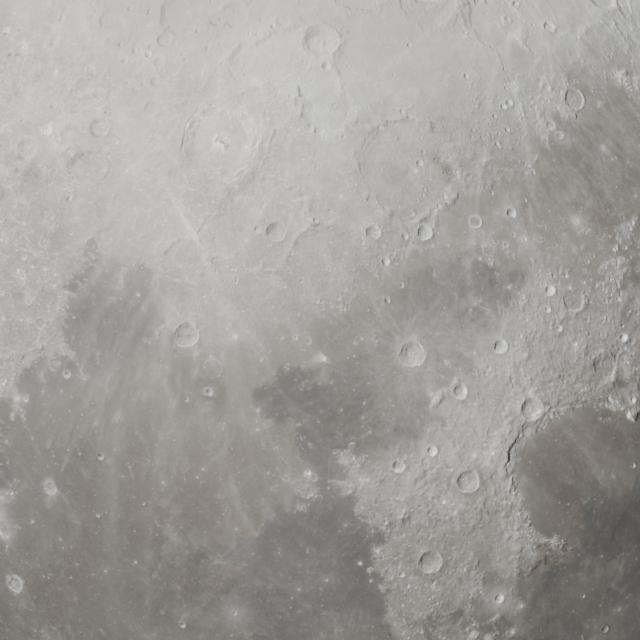crater: (183, 100, 269, 183), (252, 209, 323, 254), (161, 2, 231, 43), (59, 122, 93, 152), (289, 470, 321, 501), (162, 239, 195, 266), (592, 352, 622, 381), (398, 341, 426, 367), (173, 323, 200, 349), (417, 549, 443, 575), (521, 398, 545, 423), (562, 290, 586, 313), (457, 470, 480, 494), (564, 88, 586, 112), (15, 135, 36, 157), (609, 370, 630, 392), (202, 354, 222, 375), (90, 118, 110, 138), (156, 28, 175, 48), (264, 222, 284, 240), (82, 236, 100, 256), (6, 574, 24, 594), (293, 92, 307, 114), (416, 224, 433, 242), (452, 382, 469, 400), (13, 40, 31, 56), (142, 101, 159, 117), (42, 479, 58, 496), (365, 224, 381, 240), (23, 290, 38, 306), (493, 338, 508, 354), (538, 78, 552, 94), (47, 358, 62, 372), (569, 214, 583, 229), (39, 123, 53, 137), (468, 215, 482, 229), (598, 260, 612, 274), (399, 512, 412, 526), (392, 460, 406, 473), (543, 20, 556, 33), (553, 130, 566, 142), (36, 235, 48, 248), (202, 386, 214, 398), (34, 317, 46, 329), (544, 284, 556, 296), (18, 394, 30, 406), (426, 445, 438, 457), (176, 617, 188, 629), (545, 119, 556, 131), (320, 61, 332, 72), (302, 468, 314, 479), (500, 100, 513, 110), (302, 336, 313, 346), (62, 368, 72, 379), (506, 208, 516, 219), (494, 594, 504, 605), (9, 411, 18, 423), (503, 15, 513, 25), (381, 257, 391, 267), (620, 333, 630, 343), (608, 0, 618, 10), (415, 158, 424, 168), (290, 333, 300, 342), (398, 106, 407, 116), (2, 26, 12, 35), (311, 216, 320, 225), (494, 140, 502, 150), (572, 340, 580, 350), (232, 275, 240, 285), (600, 143, 608, 153), (608, 396, 616, 406), (383, 296, 391, 305), (144, 49, 152, 58), (407, 210, 416, 218), (401, 232, 410, 240), (611, 244, 619, 253), (252, 224, 260, 233), (596, 100, 605, 108), (96, 453, 105, 461), (635, 409, 640, 422), (544, 306, 552, 314), (398, 282, 406, 290), (64, 194, 72, 202), (366, 566, 374, 574), (502, 240, 509, 249), (462, 72, 469, 80), (557, 324, 564, 332), (21, 253, 29, 260), (483, 635, 493, 640), (491, 112, 498, 119), (183, 397, 190, 404), (512, 1, 520, 7), (406, 41, 412, 48), (616, 296, 622, 303), (159, 610, 165, 616), (135, 291, 141, 297), (96, 512, 101, 518)
